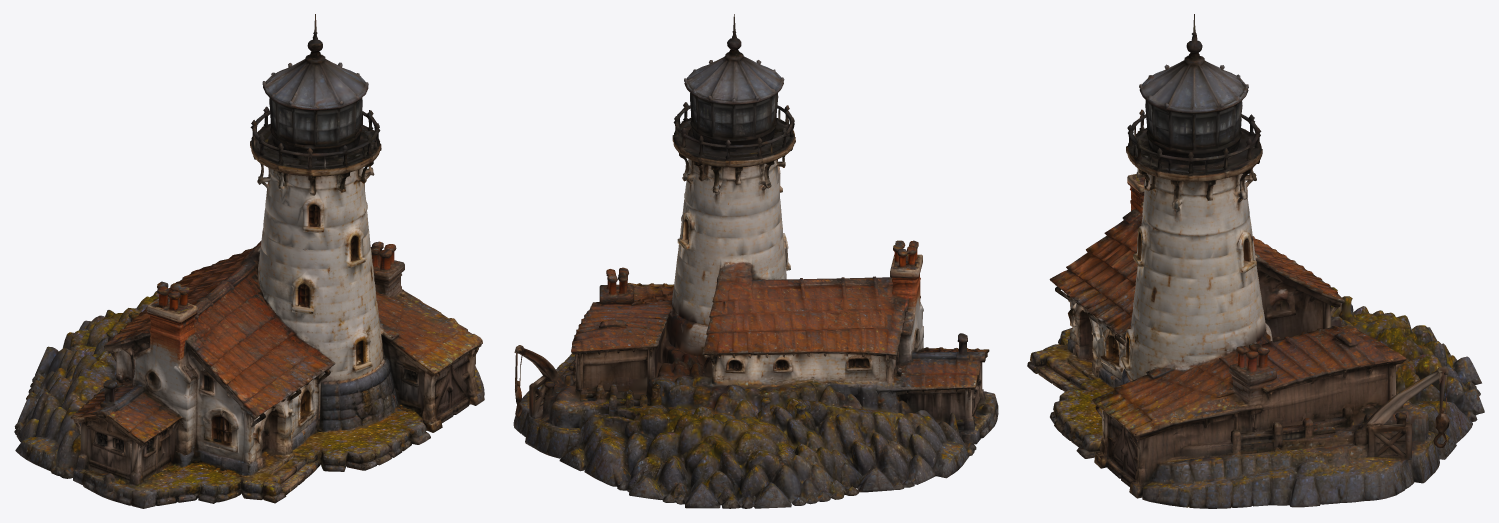
Rendered from lighthouse_exterior_v3.glb.
The picture shows the model from 3 angles, left to right: view 1: azimuth 30°, elevation 25°; view 2: azimuth 150°, elevation 25°; view 3: azimuth 270°, elevation 25°; orthographic projection. The views are drawn at different scales.
Parts seen in each view (by area): view 1: material; view 2: material; view 3: material.
Part boxes in pixels (x1=…): material: x1=14, y1=14, x2=484, y2=508; material: x1=513, y1=14, x2=998, y2=508; material: x1=1027, y1=14, x2=1484, y2=508.
Size of the model in its own units: 0.8762 by 0.7871 by 0.7892.
Materials: 1 (1 with a texture image).
